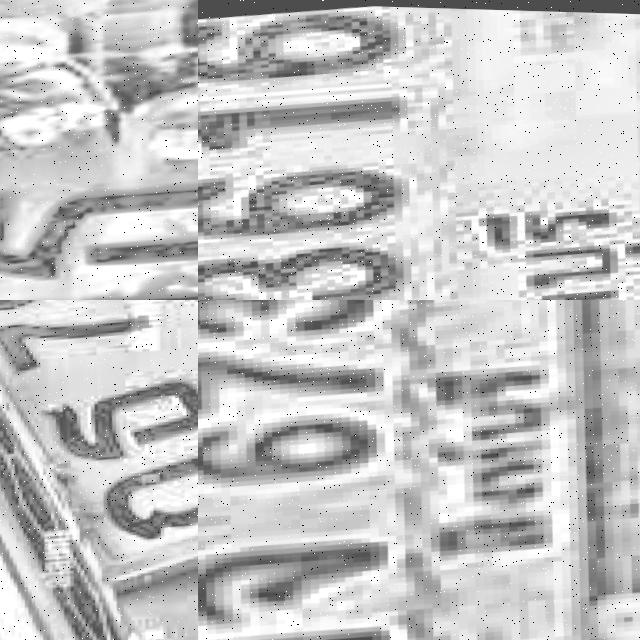license-plate: (198, 300, 640, 640), (198, 0, 640, 300), (0, 300, 198, 611), (0, 0, 198, 300)
